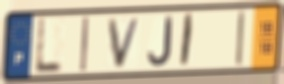I: (178, 11, 196, 70), (234, 8, 247, 69), (79, 15, 91, 73)
J: (147, 15, 174, 68)
L: (33, 16, 64, 75)
V: (107, 15, 143, 70)
